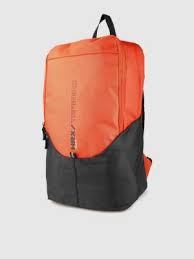backpack: (41, 13, 152, 211)
